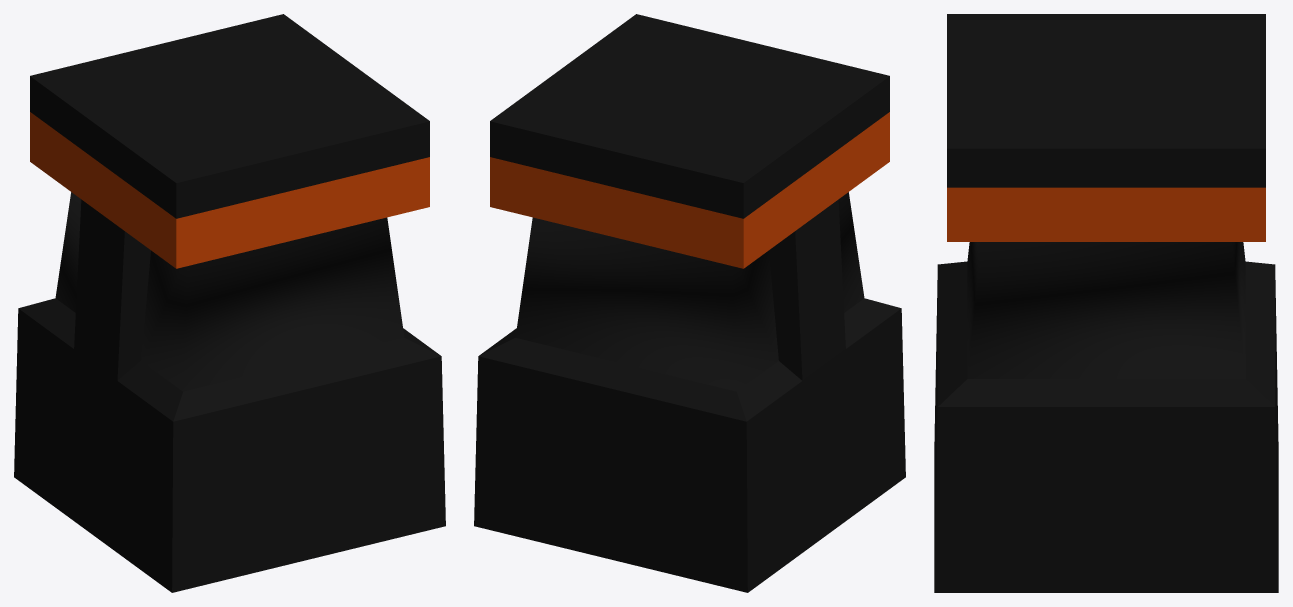
Rendered from hokuyo_utm_30lx.obj.
3 renders of one model, left to right at view 1: azimuth 30°, elevation 25°; view 2: azimuth 150°, elevation 25°; view 3: azimuth 270°, elevation 25°, orthographic. The views are drawn at different scales.
Parts seen in each view (by area): view 1: Plane_Plane-mesh; view 2: Plane_Plane-mesh; view 3: Plane_Plane-mesh.
Boxes of the visible parts, x1,y1,x2,y2 form: Plane_Plane-mesh: (14, 14, 445, 592); Plane_Plane-mesh: (474, 14, 905, 592); Plane_Plane-mesh: (934, 14, 1278, 592).
Size of the model in its own units: 0.0618 by 0.087 by 0.0618.
